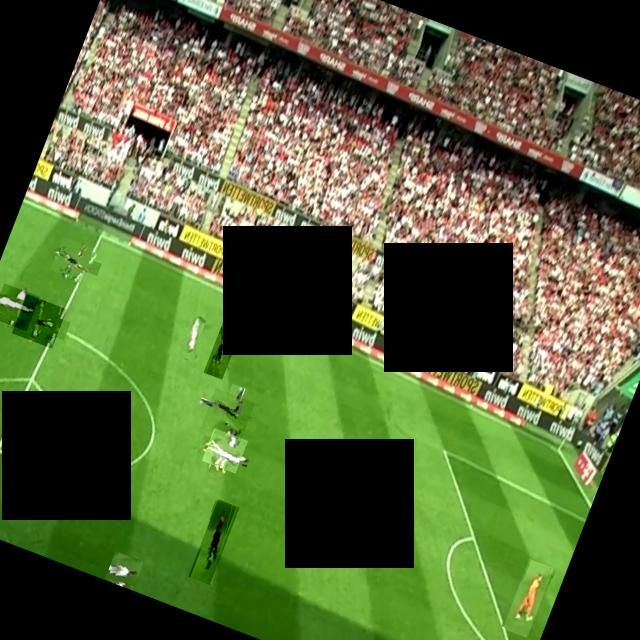goalkeeper: (502, 559, 554, 638)
referee: (84, 400, 124, 464)
soccer-player: (188, 499, 240, 585), (200, 388, 255, 443), (12, 294, 67, 349), (203, 321, 241, 380), (50, 236, 97, 283), (202, 428, 248, 474), (0, 283, 40, 331), (176, 314, 208, 362), (105, 552, 143, 590)
